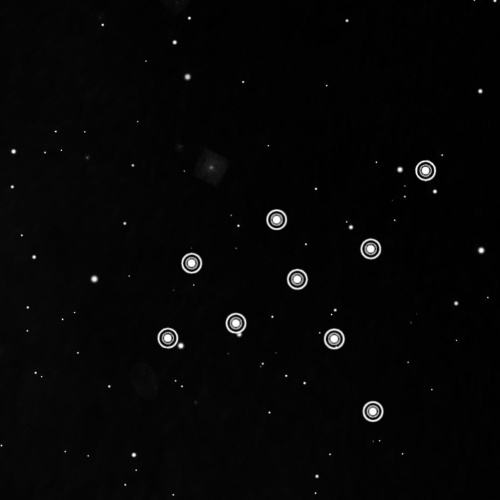cygnus: (153, 151, 440, 427)
